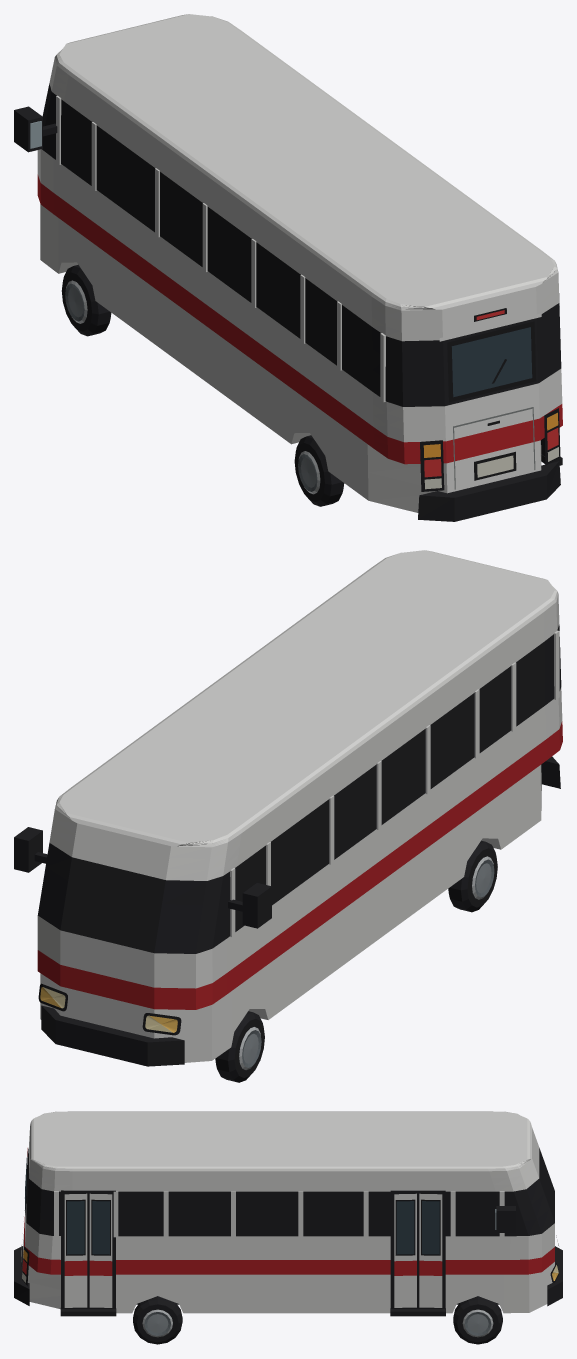
Rendered from combi_trujillo_lowpoly.glb.
3 renders of one model, top to bottom at view 1: azimuth 30°, elevation 25°; view 2: azimuth 150°, elevation 25°; view 3: azimuth 270°, elevation 25°, orthographic. The views are drawn at different scales.
Parts seen in each view (by area): view 1: carroceria, ventanas, detalles_traseros, parachoques_trasero, rueda_delantera_izquierda, rueda_trasera_izquierda, retrovisor_-1, rin_delantera_izquierda, rin_trasera_izquierda; view 2: carroceria, ventanas, parachoques_delantero, rueda_trasera_izquierda, rueda_delantera_izquierda, retrovisor_-1, retrovisor_1, rin_delantera_izquierda, rin_trasera_izquierda, faro_delantero_-1; view 3: carroceria, ventanas, puerta_delantera_panel_1, puerta_trasera_panel_-1, puerta_trasera_panel_1, puerta_delantera_panel_-1, puerta_delantera_marco, puerta_trasera_marco, rueda_delantera_derecha, rueda_trasera_derecha, rin_delantera_derecha, rin_trasera_derecha (+6 smaller).
Boxes of the visible parts, box(x1,y1,x2,y2) form: carroceria: box(37, 14, 562, 512); ventanas: box(42, 83, 561, 406); detalles_traseros: box(420, 308, 560, 491); parachoques_trasero: box(418, 461, 560, 521); rueda_delantera_izquierda: box(61, 264, 111, 336); rueda_trasera_izquierda: box(294, 435, 344, 506); retrovisor_-1: box(14, 106, 42, 152); rin_delantera_izquierda: box(65, 280, 87, 323); rin_trasera_izquierda: box(298, 451, 320, 494); carroceria: box(37, 550, 562, 1062); ventanas: box(38, 624, 561, 953); parachoques_delantero: box(41, 1005, 184, 1066); rueda_trasera_izquierda: box(448, 840, 497, 912); rueda_delantera_izquierda: box(215, 1011, 264, 1082); retrovisor_-1: box(242, 883, 271, 928); retrovisor_1: box(14, 827, 42, 872); rin_delantera_izquierda: box(239, 1027, 261, 1070); rin_trasera_izquierda: box(472, 856, 494, 899); faro_delantero_-1: box(142, 1013, 181, 1035); carroceria: box(23, 1111, 554, 1313); ventanas: box(26, 1148, 554, 1236); puerta_delantera_panel_1: box(419, 1193, 442, 1307); puerta_trasera_panel_-1: box(64, 1193, 87, 1307); puerta_trasera_panel_1: box(89, 1193, 112, 1307); puerta_delantera_panel_-1: box(394, 1193, 416, 1307); puerta_delantera_marco: box(390, 1190, 445, 1308); puerta_trasera_marco: box(61, 1190, 115, 1308); rueda_delantera_derecha: box(453, 1296, 502, 1344); rueda_trasera_derecha: box(133, 1296, 182, 1344); rin_delantera_derecha: box(462, 1309, 493, 1337); rin_trasera_derecha: box(142, 1309, 172, 1337).
Size of the model in its own units: 2.96 by 3 by 8.4.
